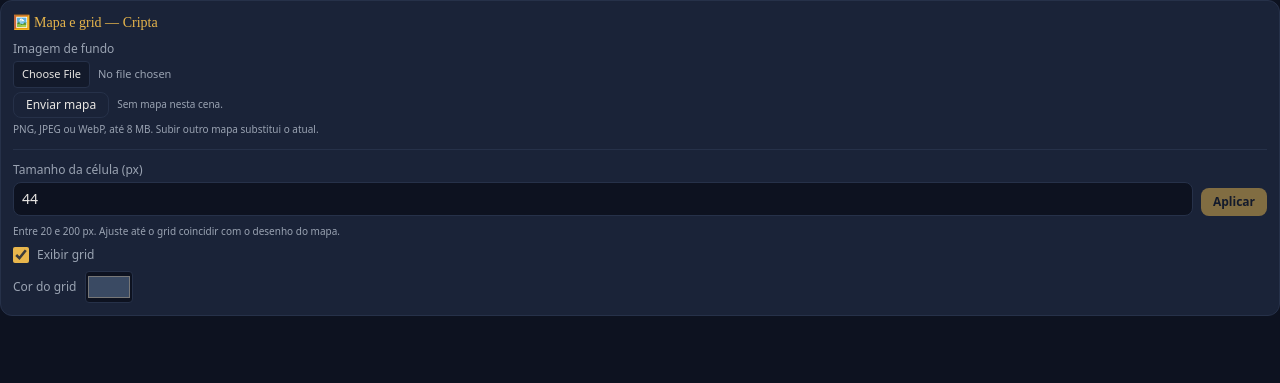
Test case: PropriedadesCena — configuração do grid (RV-033) › a mensagem de limite da API aparece como veio
Step 1. Replace the text in the number field labelled "Tamanho da célula (px)" with "5" → (603, 198), box [13,182,1193,216]
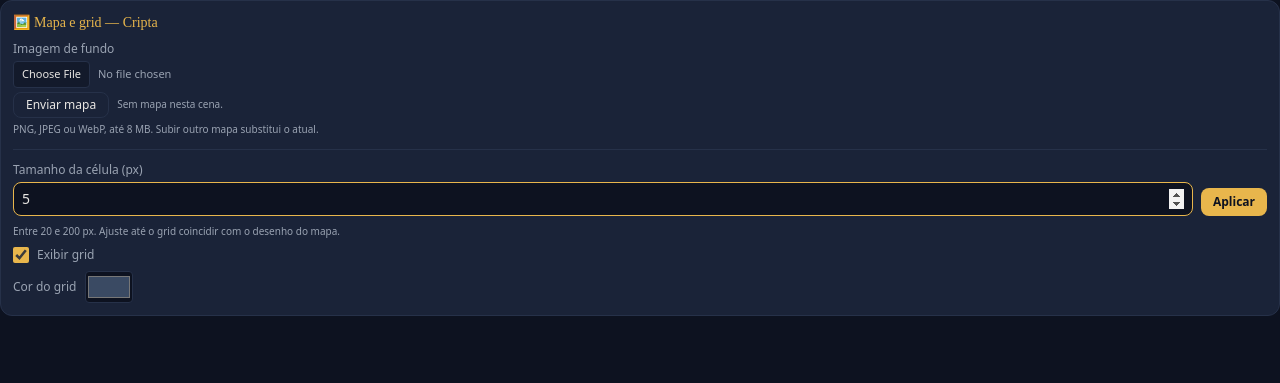
Step 2. Click the button "Aplicar" → (1234, 202), box [1201,188,1267,216]
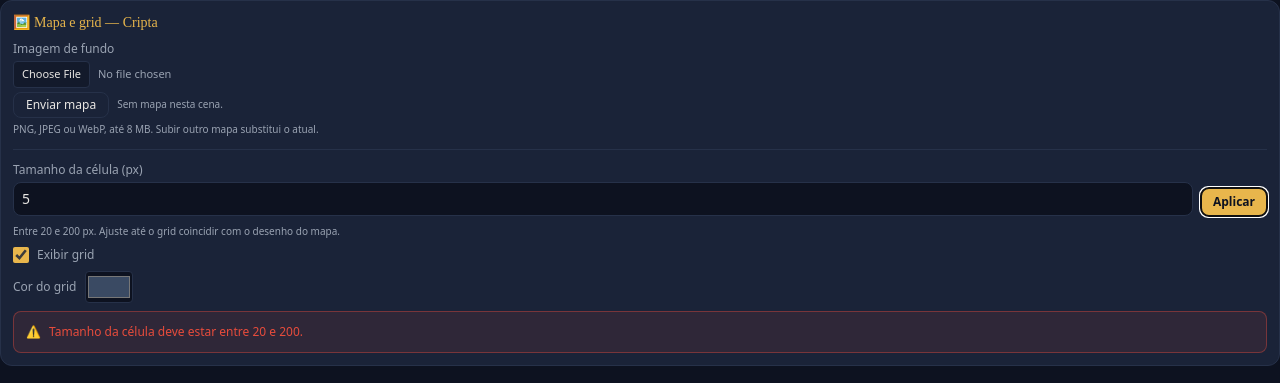
expect the message shows "Tamanho da célula deve estar entre 20 e 200.": met, box [49,322,303,340]
